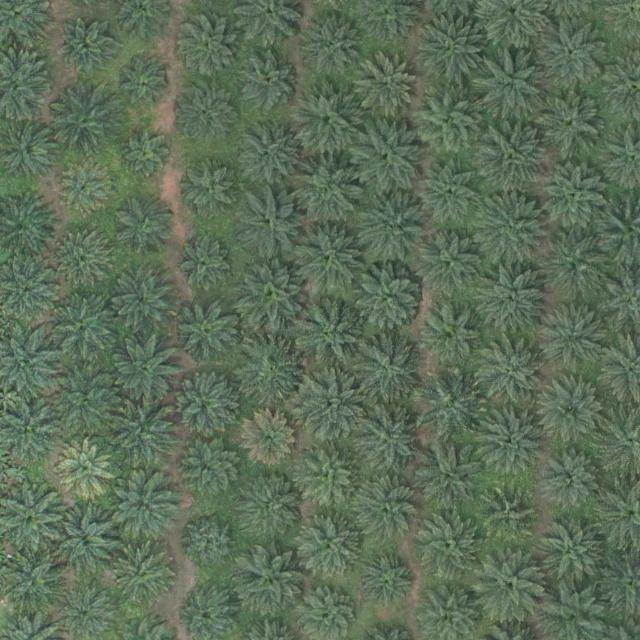Kelapa_Sawit: (48, 290, 118, 361), (52, 368, 122, 439), (109, 334, 179, 405), (411, 85, 481, 156), (477, 121, 547, 192), (477, 195, 547, 266), (540, 161, 610, 232), (539, 230, 609, 301), (539, 301, 609, 372), (50, 504, 120, 575), (107, 473, 177, 544), (540, 19, 610, 89), (476, 46, 546, 116), (415, 14, 485, 84), (232, 47, 302, 117), (50, 88, 120, 158), (232, 117, 302, 187), (236, 188, 306, 258), (236, 259, 306, 329), (236, 335, 306, 405), (290, 84, 360, 154), (291, 156, 361, 226), (292, 222, 362, 292), (294, 301, 364, 371), (295, 370, 365, 440), (353, 121, 423, 191), (357, 191, 427, 261), (353, 261, 423, 331), (350, 332, 420, 402), (415, 225, 485, 295), (413, 369, 483, 439), (474, 265, 544, 335), (479, 339, 549, 409), (536, 87, 606, 157), (537, 375, 607, 445), (535, 514, 605, 584), (475, 549, 545, 619), (411, 510, 481, 580), (474, 403, 544, 473), (414, 440, 484, 510), (353, 403, 423, 473), (108, 395, 178, 465), (236, 543, 306, 613), (0, 479, 58, 551), (0, 317, 52, 393), (356, 52, 418, 115), (302, 13, 364, 76), (114, 192, 176, 255), (111, 270, 173, 333), (177, 161, 239, 224), (173, 300, 235, 363), (421, 303, 483, 366), (354, 474, 416, 537), (299, 444, 361, 507), (1, 553, 63, 616), (178, 435, 240, 498), (242, 473, 304, 536), (0, 394, 58, 461), (175, 17, 237, 79), (175, 82, 237, 144), (173, 372, 235, 434), (418, 164, 480, 226), (298, 514, 360, 576), (112, 545, 174, 607), (536, 585, 602, 640), (0, 46, 50, 118), (178, 579, 237, 640), (0, 252, 56, 315), (0, 188, 54, 251), (415, 585, 475, 640), (473, 1, 546, 46), (593, 404, 640, 471), (597, 478, 640, 551), (299, 585, 356, 640), (0, 121, 54, 179), (234, 0, 302, 46), (597, 194, 640, 265), (56, 163, 111, 218), (119, 125, 174, 180), (176, 235, 231, 290), (481, 487, 536, 542), (241, 411, 296, 466), (57, 18, 111, 73), (56, 228, 110, 283), (357, 552, 411, 607), (544, 451, 598, 506), (57, 439, 111, 494), (183, 515, 237, 570), (60, 580, 113, 636), (595, 266, 639, 332), (601, 121, 640, 189), (597, 555, 639, 617), (601, 333, 640, 399), (603, 51, 640, 120), (112, 0, 170, 42), (363, 0, 418, 44), (0, 0, 52, 46), (119, 60, 165, 107)
